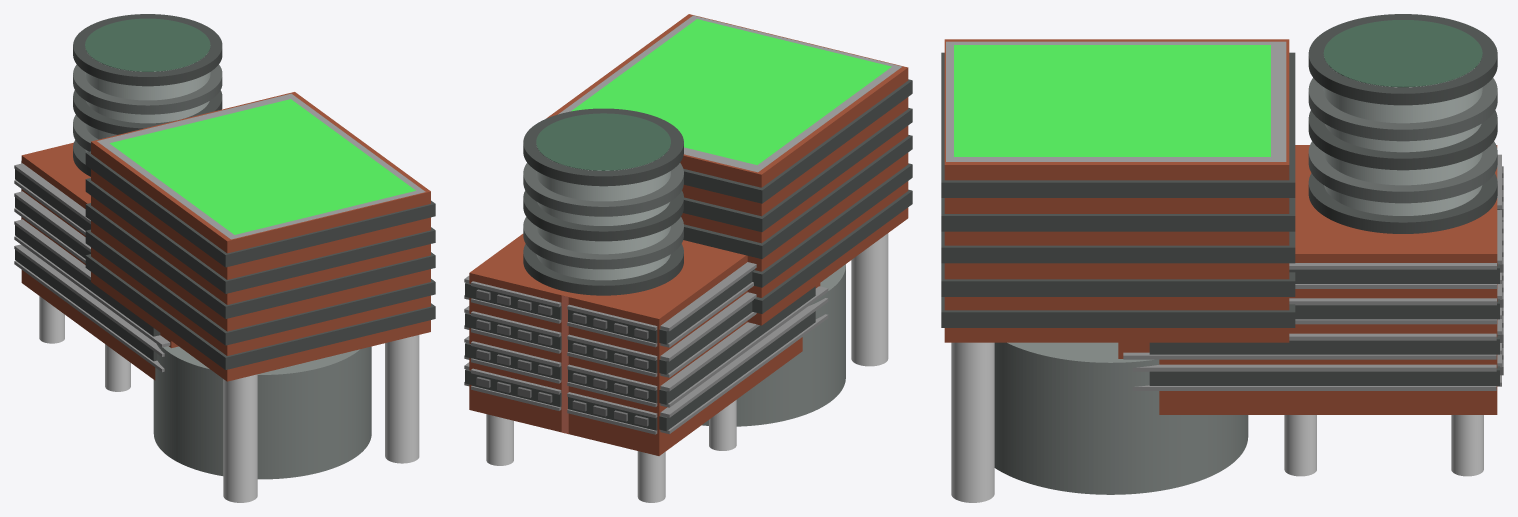
The model's file is block_M.glb.
3 renders of one model, left to right at view 1: azimuth 30°, elevation 25°; view 2: azimuth 150°, elevation 25°; view 3: azimuth 270°, elevation 25°, orthographic. The views are drawn at different scales.
Parts seen in each view (by area): view 1: Cube.001, Cube.017, Cylinder, Cylinder.002, Cube.018, Cube.028, Cube.019, Cube.020, Cube.021, Cube, Cylinder.019, Cylinder.018 (+18 smaller); view 2: Cube.017, Cube, Cube.001, Cylinder, Cylinder.002, Cylinder.001, Cylinder.019, Cylinder.028, Cube.028, Cube.018, Cube.019, Cube.086 (+38 smaller); view 3: Cube.017, Cube.001, Cylinder, Cube, Cylinder.002, Cylinder.001, Cube.028, Cylinder.018, Cube.019, Cube.018, Cube.020, Cube.021 (+20 smaller).
Boxes of the visible parts, bbox=[...] form: Cube.001: bbox=[91, 92, 430, 381]; Cube.017: bbox=[110, 99, 415, 234]; Cylinder: bbox=[153, 344, 371, 479]; Cylinder.002: bbox=[85, 18, 210, 71]; Cube.018: bbox=[85, 178, 435, 293]; Cube.028: bbox=[85, 151, 435, 267]; Cube.019: bbox=[85, 203, 435, 318]; Cube.020: bbox=[85, 229, 435, 345]; Cube.021: bbox=[85, 254, 435, 369]; Cube: bbox=[21, 142, 178, 380]; Cylinder.019: bbox=[223, 374, 257, 502]; Cylinder.018: bbox=[385, 335, 419, 463]; Cube.017: bbox=[571, 19, 891, 165]; Cube: bbox=[469, 234, 820, 455]; Cube.001: bbox=[546, 14, 908, 325]; Cylinder: bbox=[702, 264, 845, 426]; Cylinder.002: bbox=[536, 113, 670, 170]; Cylinder.001: bbox=[536, 147, 670, 280]; Cylinder.019: bbox=[851, 233, 888, 366]; Cylinder.028: bbox=[523, 108, 683, 186]; Cube.028: bbox=[683, 79, 912, 203]; Cube.018: bbox=[683, 108, 912, 231]; Cube.019: bbox=[683, 135, 912, 258]; Cube.086: bbox=[558, 15, 902, 172]; Cube.017: bbox=[954, 45, 1270, 156]; Cube.001: bbox=[944, 39, 1289, 342]; Cylinder: bbox=[994, 342, 1248, 494]; Cube: bbox=[1118, 145, 1497, 414]; Cylinder.002: bbox=[1323, 20, 1482, 87]; Cylinder.001: bbox=[1323, 60, 1482, 215]; Cube.028: bbox=[941, 52, 1295, 197]; Cylinder.018: bbox=[951, 342, 994, 502]; Cube.019: bbox=[941, 231, 1295, 263]; Cube.018: bbox=[941, 198, 1295, 231]; Cube.020: bbox=[941, 263, 1295, 296]; Cube.021: bbox=[941, 297, 1295, 327].
Size of the model in its own units: 0.2827 by 0.3948 by 0.5181.
